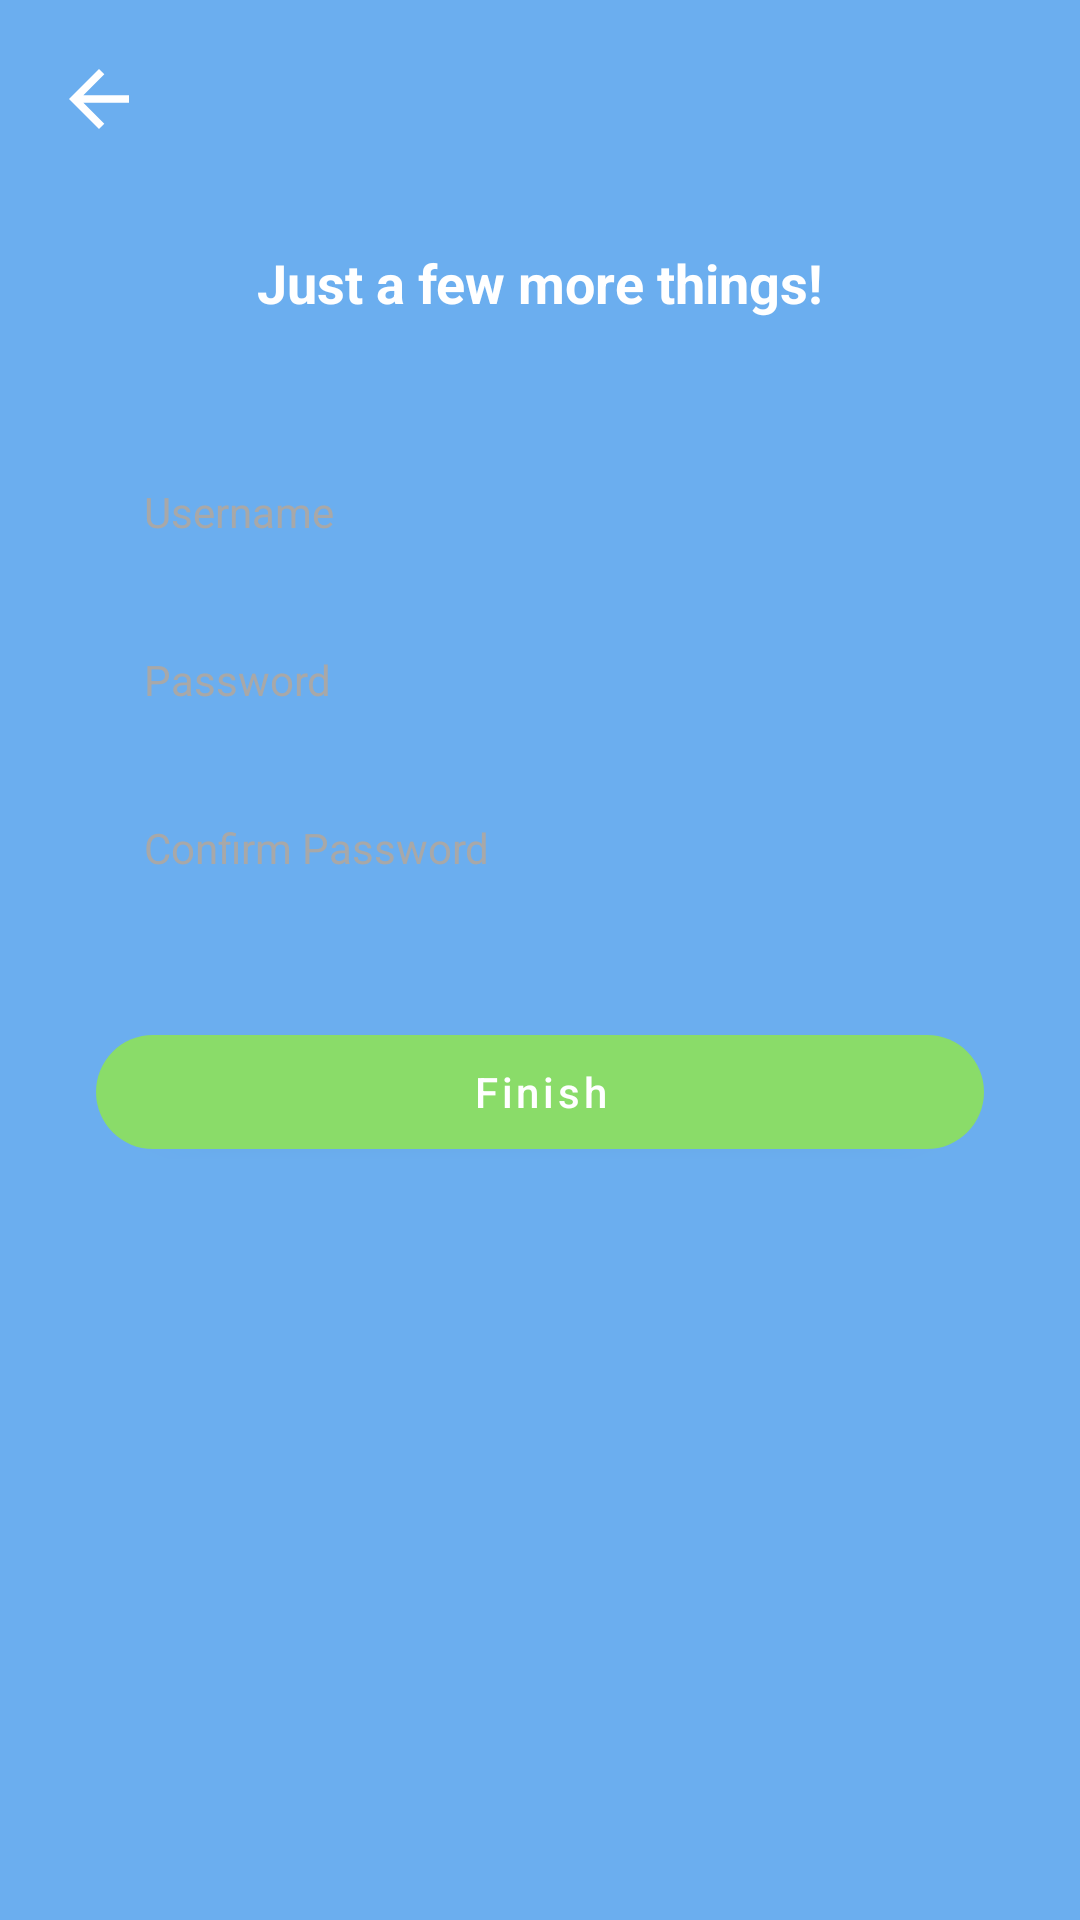

Icons on this 1080w x 1920h Android screen, each with the point to tap as (x,y):
Back: (99,99)
